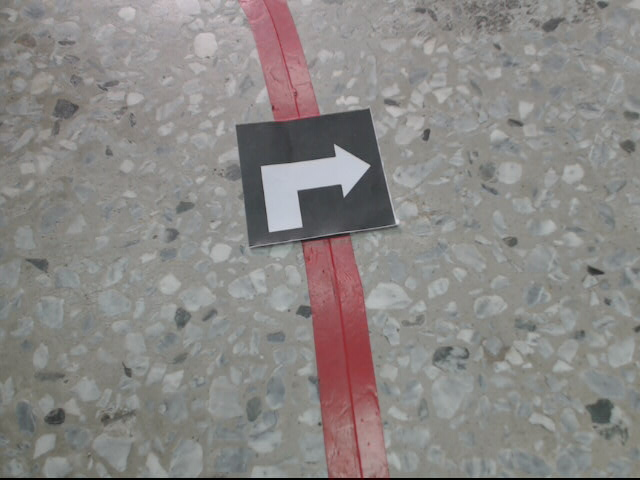right: (235, 109, 397, 249)
